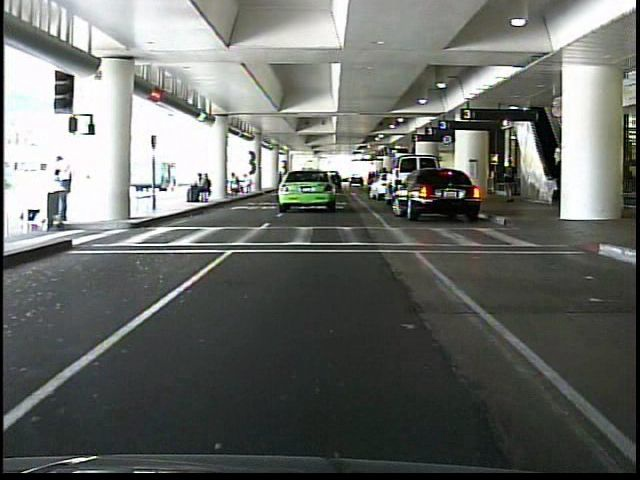person: (47, 153, 80, 230), (501, 158, 519, 206)
